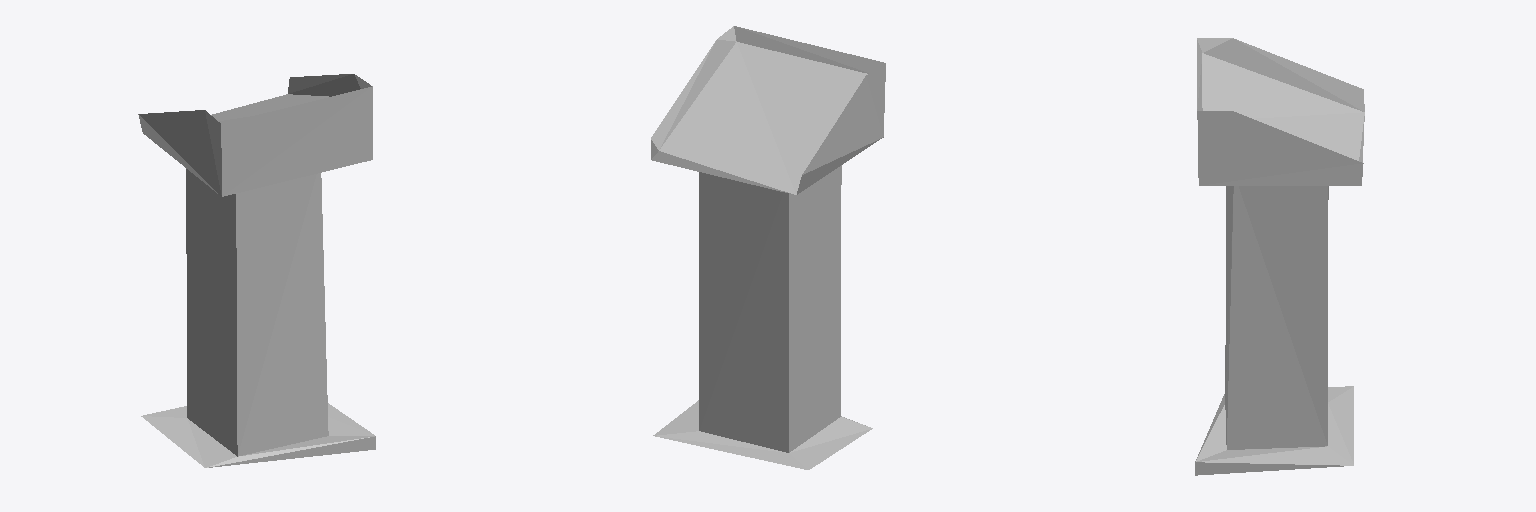
File: PreacherStand_LOD2.obj
The picture shows the model from 3 angles: view 1: azimuth 30°, elevation 25°; view 2: azimuth 150°, elevation 25°; view 3: azimuth 270°, elevation 25°; orthographic projection.
Parts seen in each view (by area): view 1: PreacherStand; view 2: PreacherStand; view 3: PreacherStand.
Part boxes in pixels (x1,y1,x2,y2): PreacherStand: (138, 74, 375, 467); PreacherStand: (651, 26, 885, 469); PreacherStand: (1195, 38, 1364, 475).
Bounding box in the file's own units: 0.6942 × 1.54 × 0.6541.